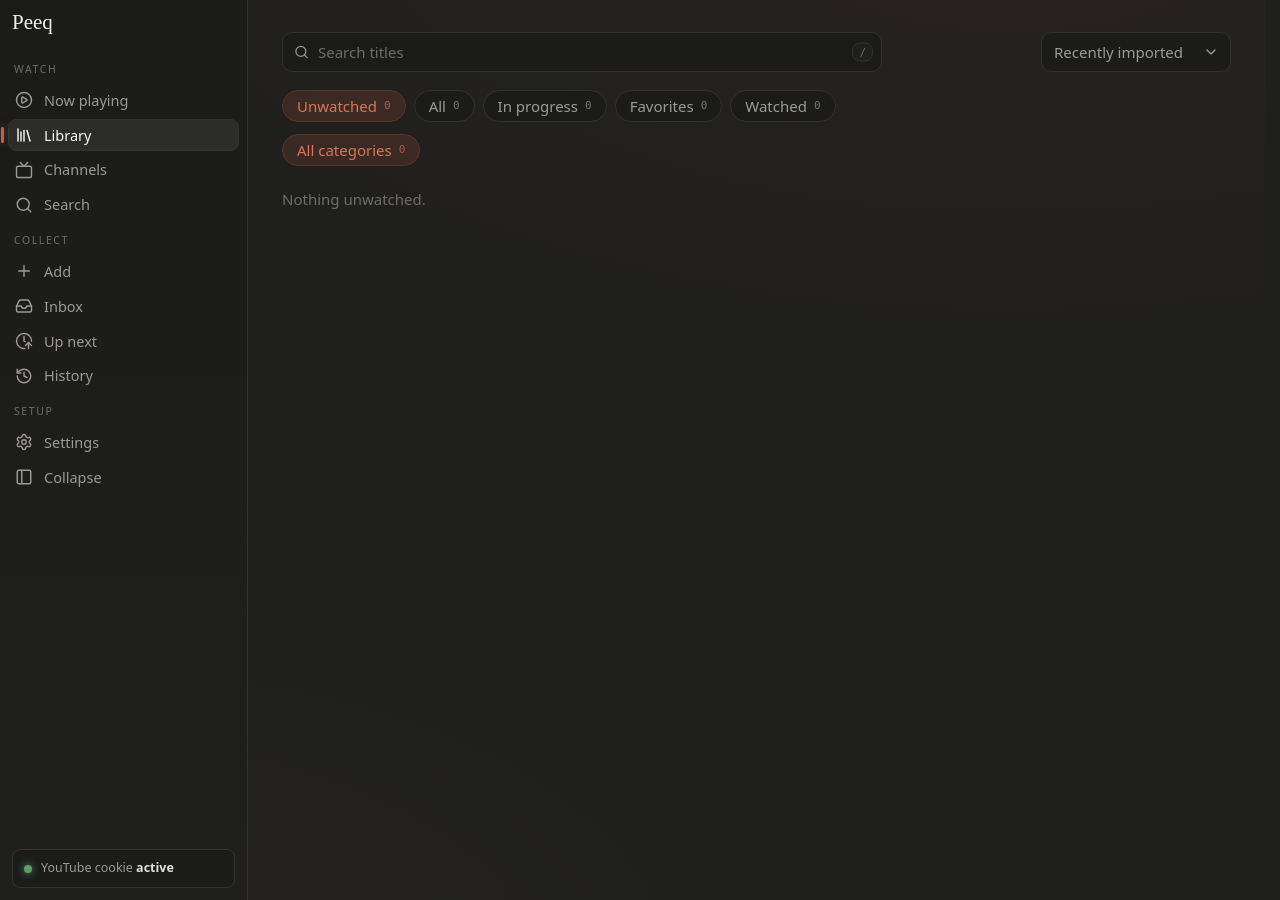
it: App deep links › re-reads the pointer on each Now playing click, so a cleared one is not reopened
Expected: the search field with placeholder "Search titles" is shown, top-left (282, 32), bottom-right (882, 72)
Click the button "Now playing": (124, 100) top-left (8, 84), bottom-right (239, 117)
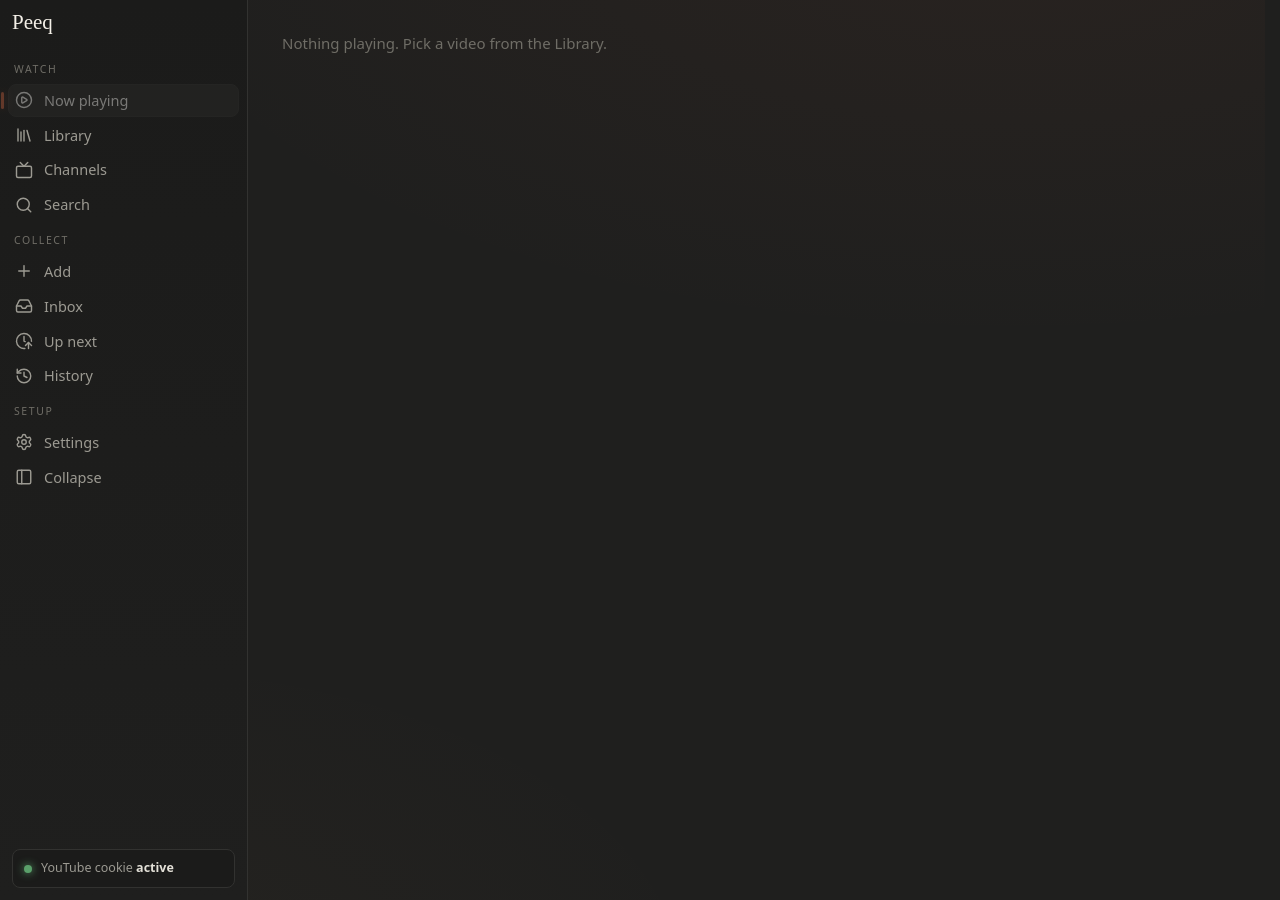
Result: the text "Nothing playing. Pick a video from the Library." is shown at top-left (282, 33), bottom-right (607, 53)
